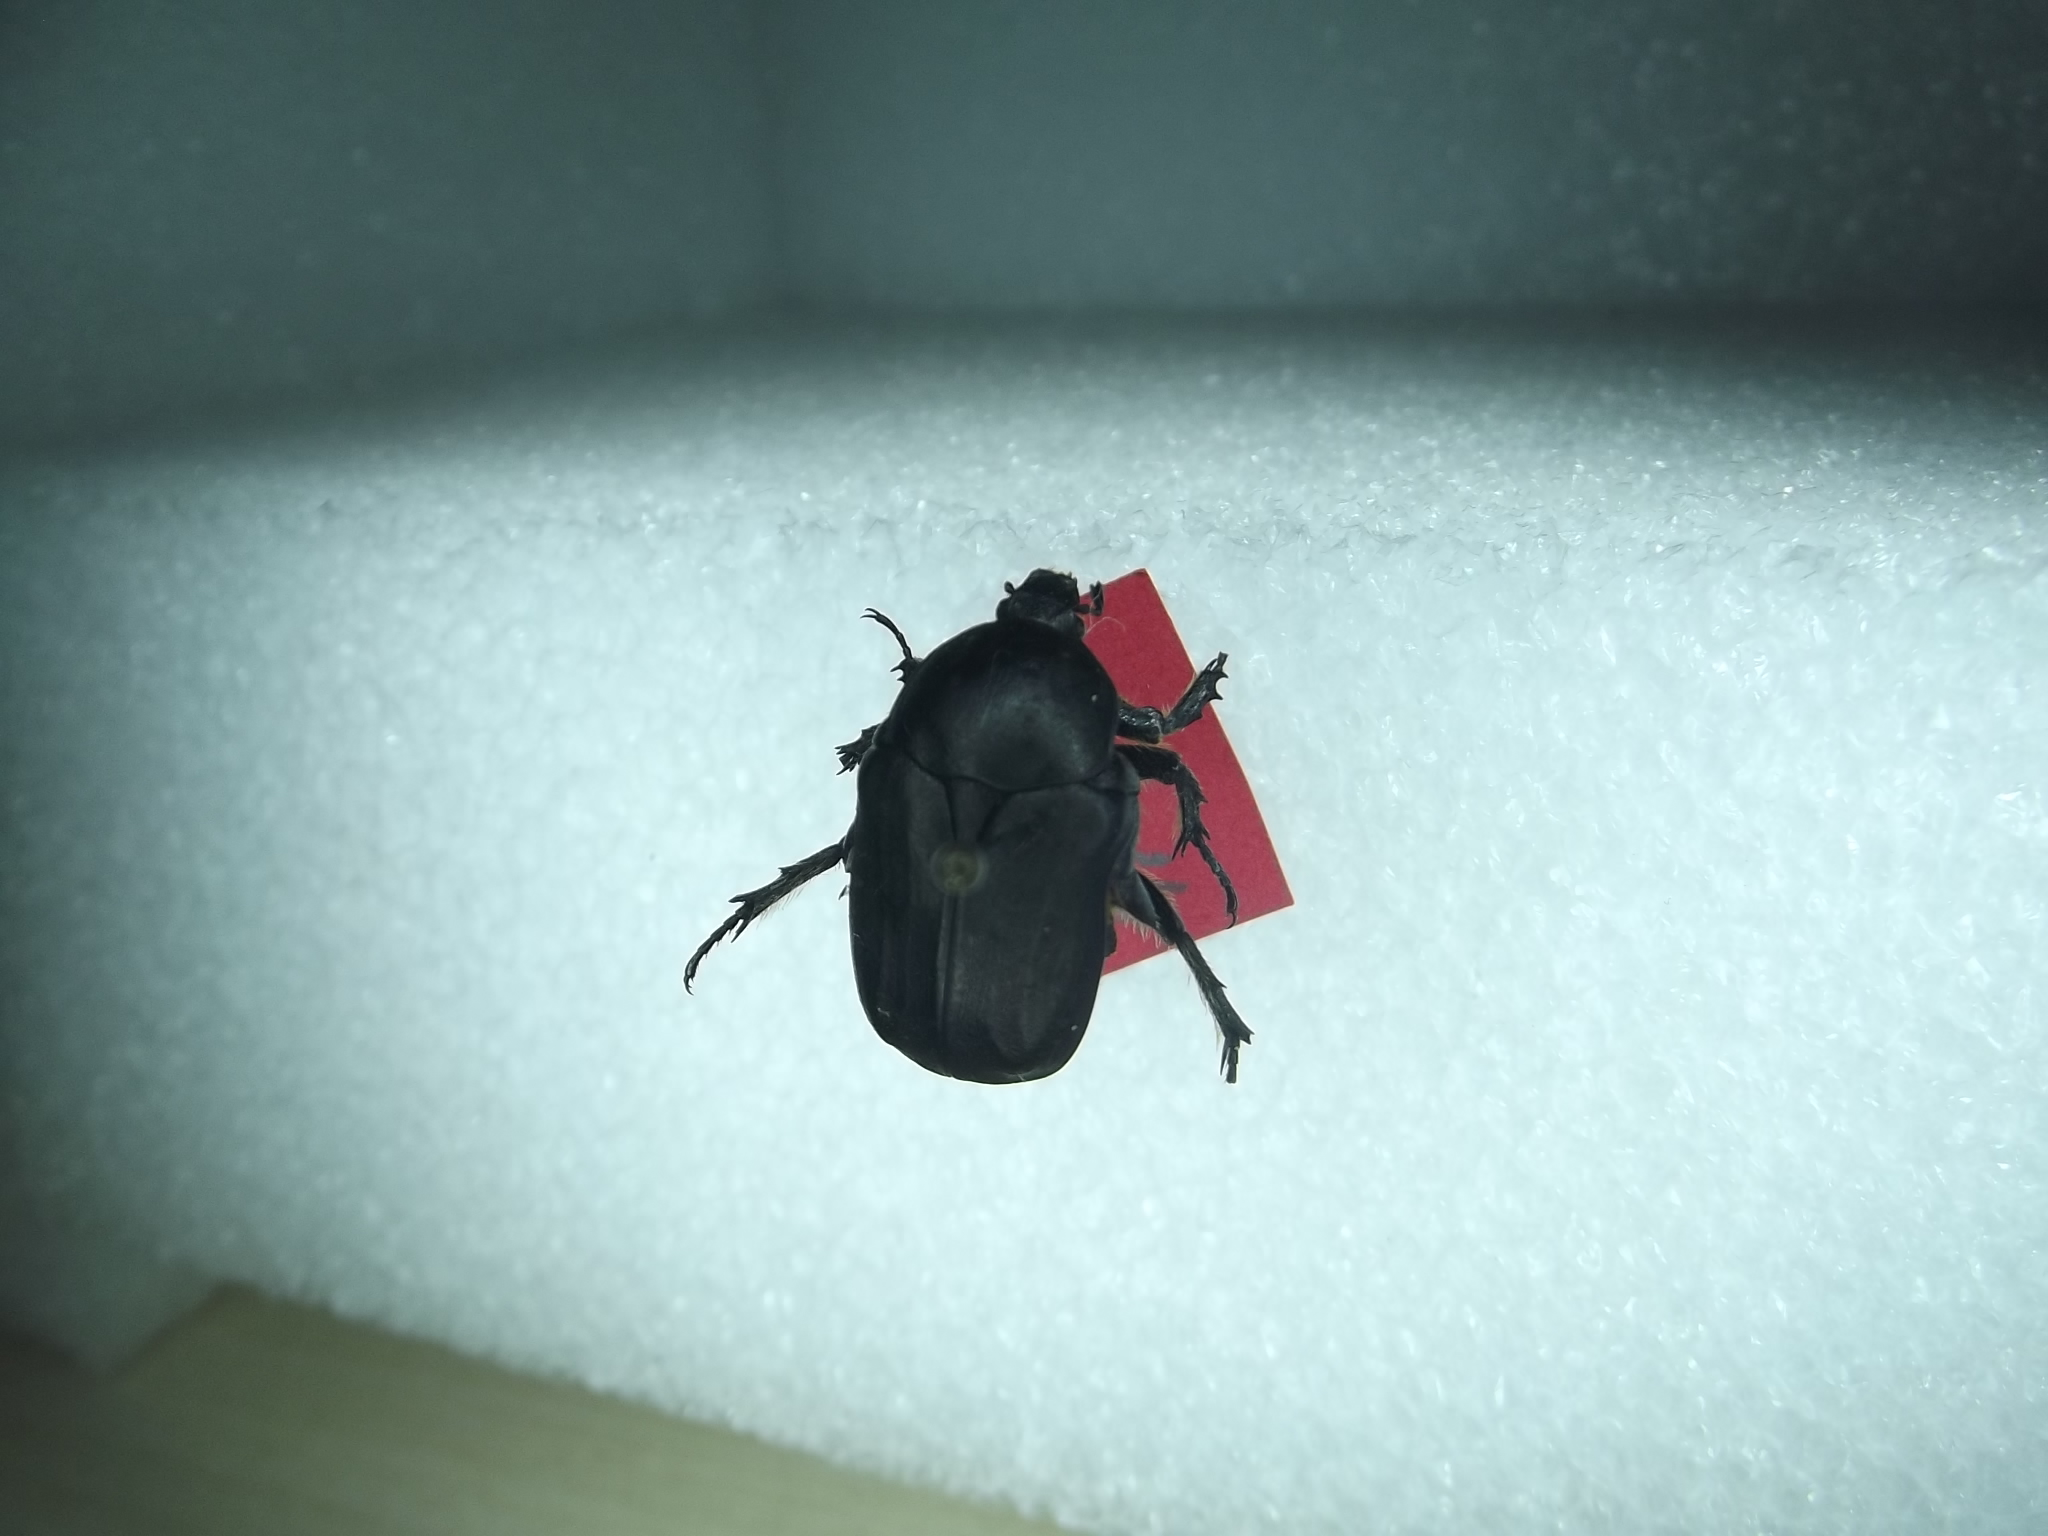Protaetia_vidua: (660, 558, 1279, 1133)
